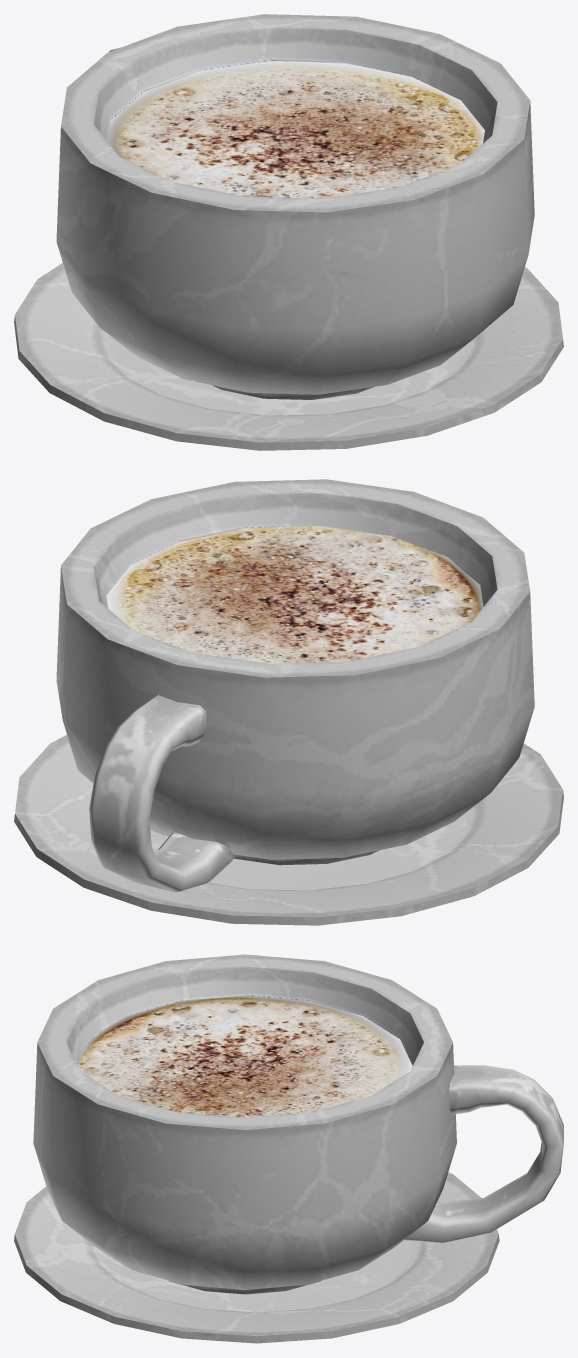
Rendered from Bowl_02.fbx.
3 views of the same model, one above another, from view 1: azimuth 30°, elevation 25°; view 2: azimuth 150°, elevation 25°; view 3: azimuth 270°, elevation 25° (orthographic). The views are drawn at different scales.
Parts seen in each view (by area): view 1: Bowl_02_LOD0; view 2: Bowl_02_LOD0; view 3: Bowl_02_LOD0.
Part boxes in pixels (x1,y1,x2,y2): Bowl_02_LOD0: (14,14,563,450); Bowl_02_LOD0: (14,479,563,925); Bowl_02_LOD0: (14,954,563,1343).
Size of what is drawn, in the model's own units: 16.02 by 7.82 by 18.14.
